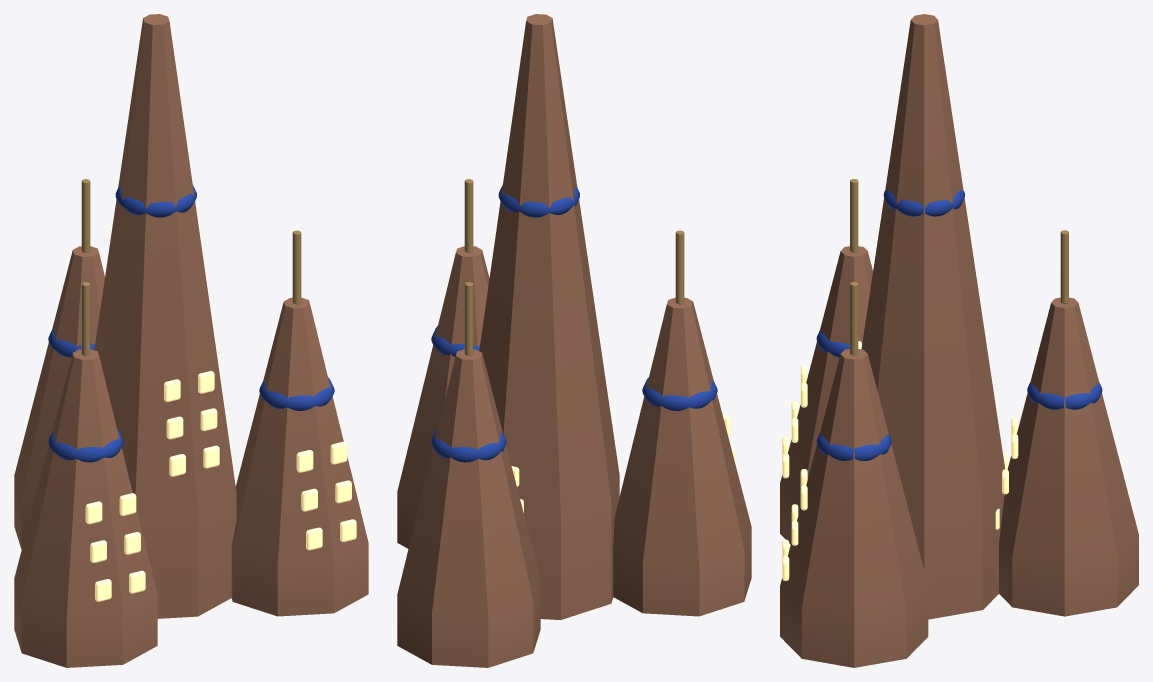
3 renders of one model, left to right at view 1: azimuth 30°, elevation 25°; view 2: azimuth 150°, elevation 25°; view 3: azimuth 270°, elevation 25°, orthographic.
Parts seen in each view (by area): view 1: Tapered spire.003, Tapered spire.001, Tapered spire.002, Tapered spire, Spire collar.002, Spire collar.001, Spire collar.003, Aerial stem.002, Aerial stem, Aerial stem.001; view 2: Tapered spire.003, Tapered spire, Tapered spire.001, Tapered spire.002, Spire collar.001, Spire collar, Spire collar.003, Aerial stem.001, Aerial stem, Aerial stem.002; view 3: Tapered spire.003, Tapered spire.002, Tapered spire, Tapered spire.001, Spire collar.003, Spire collar, Spire collar.002, Aerial stem.002, Aerial stem, Aerial stem.001.
Part boxes in pixels (x1,y1,x2,y2): Tapered spire.003: [94, 14, 236, 618]; Tapered spire.001: [14, 349, 157, 667]; Tapered spire.002: [231, 297, 368, 616]; Tapered spire: [14, 246, 104, 549]; Spire collar.002: [259, 377, 334, 410]; Spire collar.001: [48, 429, 123, 462]; Spire collar.003: [115, 184, 196, 217]; Aerial stem.002: [292, 230, 301, 304]; Aerial stem: [81, 179, 90, 252]; Aerial stem.001: [81, 282, 90, 355]; Tapered spire.003: [479, 14, 619, 619]; Tapered spire: [397, 349, 540, 667]; Tapered spire.001: [613, 297, 751, 616]; Tapered spire.002: [397, 246, 489, 548]; Spire collar.001: [642, 377, 717, 410]; Spire collar: [431, 429, 506, 462]; Spire collar.003: [498, 184, 579, 217]; Aerial stem.001: [675, 230, 684, 304]; Aerial stem: [464, 282, 473, 355]; Aerial stem.002: [464, 179, 473, 252]; Tapered spire.003: [861, 14, 1004, 619]; Tapered spire.002: [780, 349, 928, 667]; Tapered spire: [999, 297, 1138, 616]; Tapered spire.001: [780, 246, 872, 544]; Spire collar.003: [883, 189, 964, 216]; Spire collar: [1027, 382, 1102, 409]; Spire collar.002: [816, 434, 891, 460]; Aerial stem.002: [850, 281, 858, 355]; Aerial stem: [1060, 230, 1068, 303]; Aerial stem.001: [850, 179, 858, 252].
Size of the model in its own units: 2.01 by 3.2 by 1.84.
